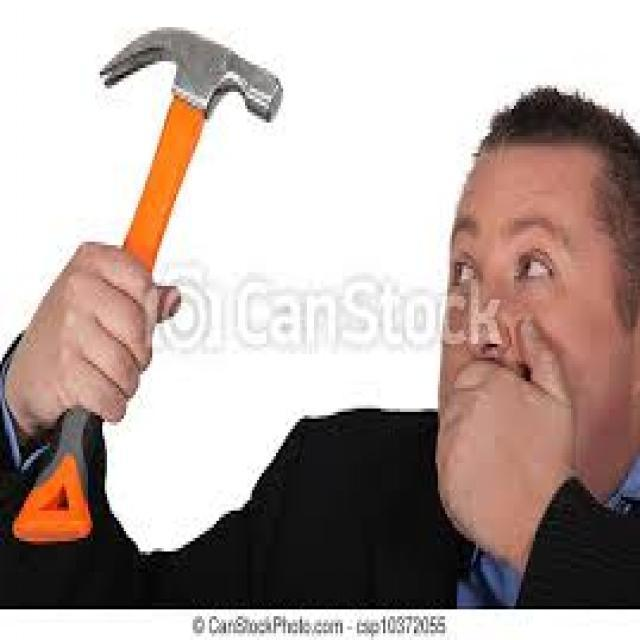hammer: (11, 15, 284, 560)
